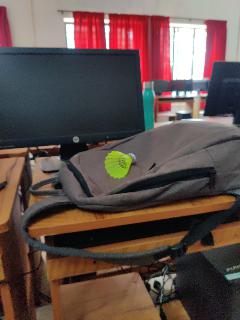shuttlecock: (105, 150, 133, 176)
